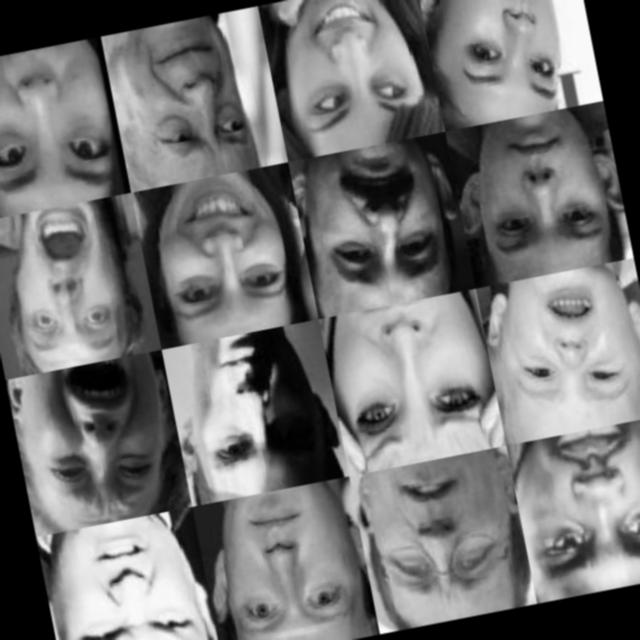angry: (42, 522, 190, 640)
fear: (14, 364, 162, 520), (0, 217, 125, 362)
happy: (144, 176, 297, 341), (273, 0, 419, 148)
neutral: (198, 485, 370, 640), (294, 148, 460, 295), (172, 340, 328, 496), (376, 465, 526, 615), (120, 22, 256, 172), (466, 117, 610, 255), (0, 51, 117, 213), (529, 428, 640, 585), (420, 0, 559, 112)
sad: (491, 269, 640, 438), (335, 298, 490, 460)
